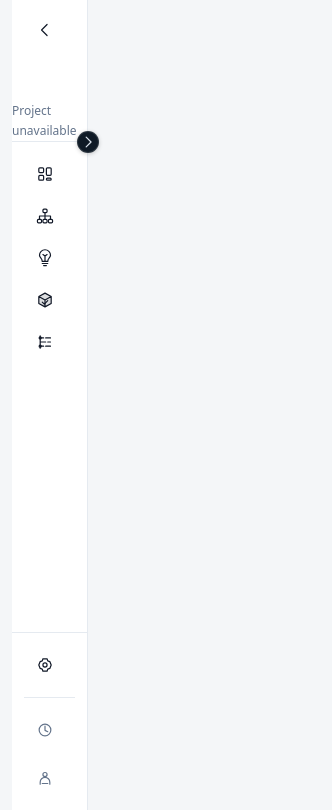
Test: V4 H3 shell contracts › H8: minimal flyout omits the parent title and anchors to the subtree lane
Click the button named "Files & History" at point(50, 342), box [24,322,75,362]
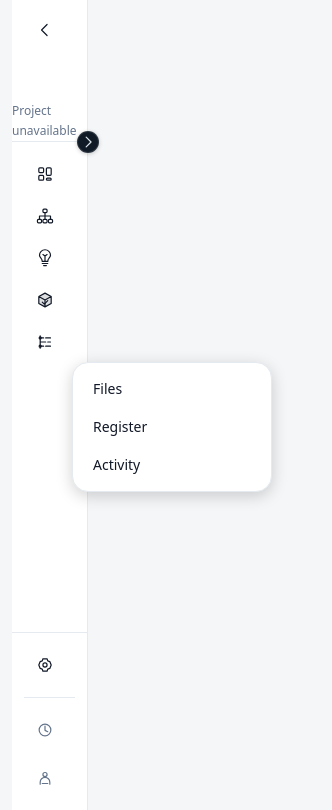
Check: the menu item "Files" is shown, box [81,371,263,407]
